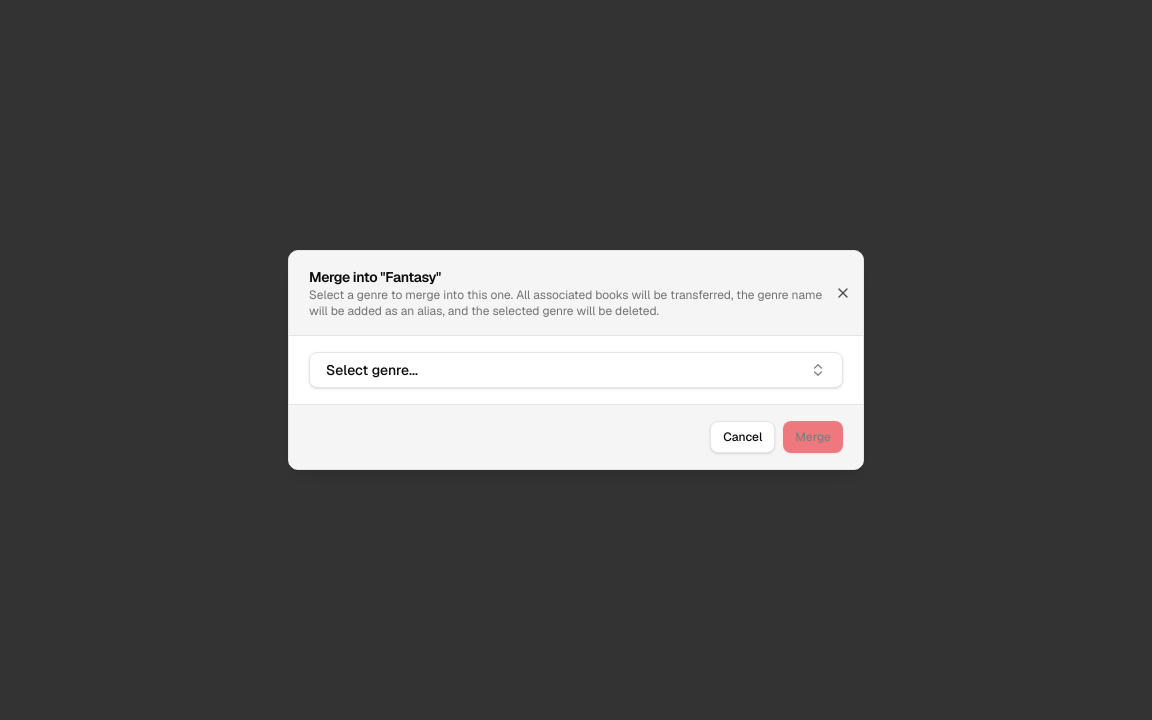
Scenario: MetadataMergeDialog › names the source picker and its search box by what they pick
What coordinates should you click on to do the following:
click the dropdown named "Genre to merge"
I would click on:
 (372, 370)
Its box is [309,352,843,388].
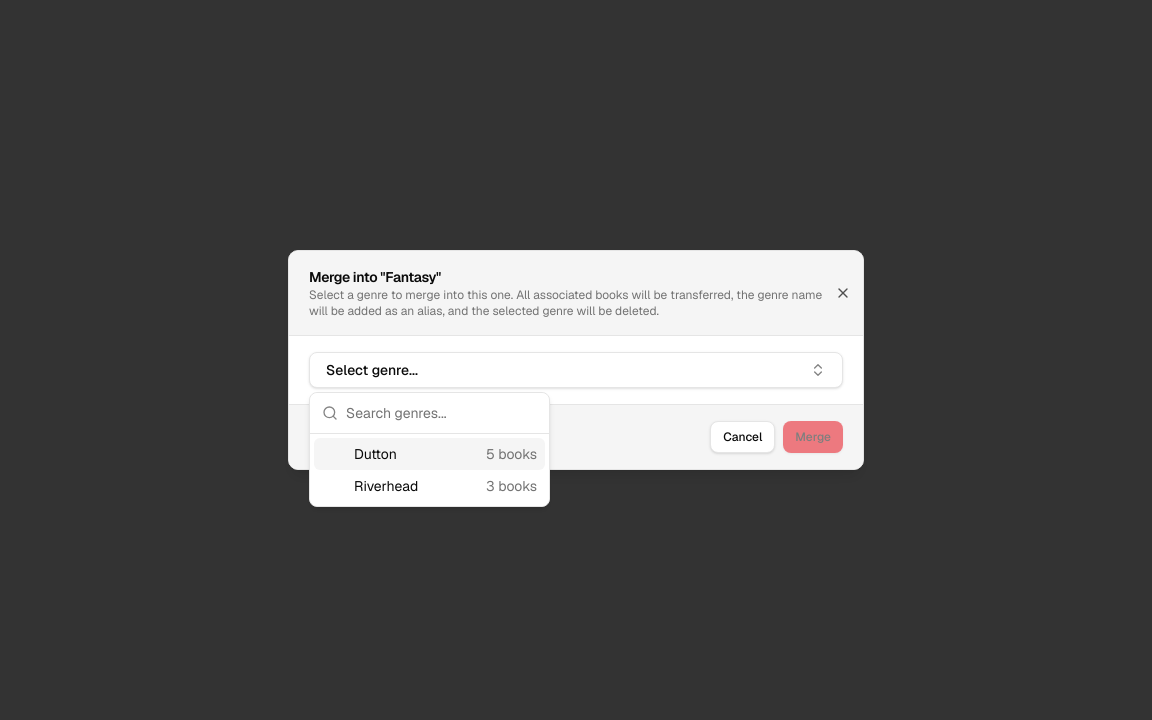
Check: the dropdown labelled "Search genres" is shown, box [346,393,537,433]
